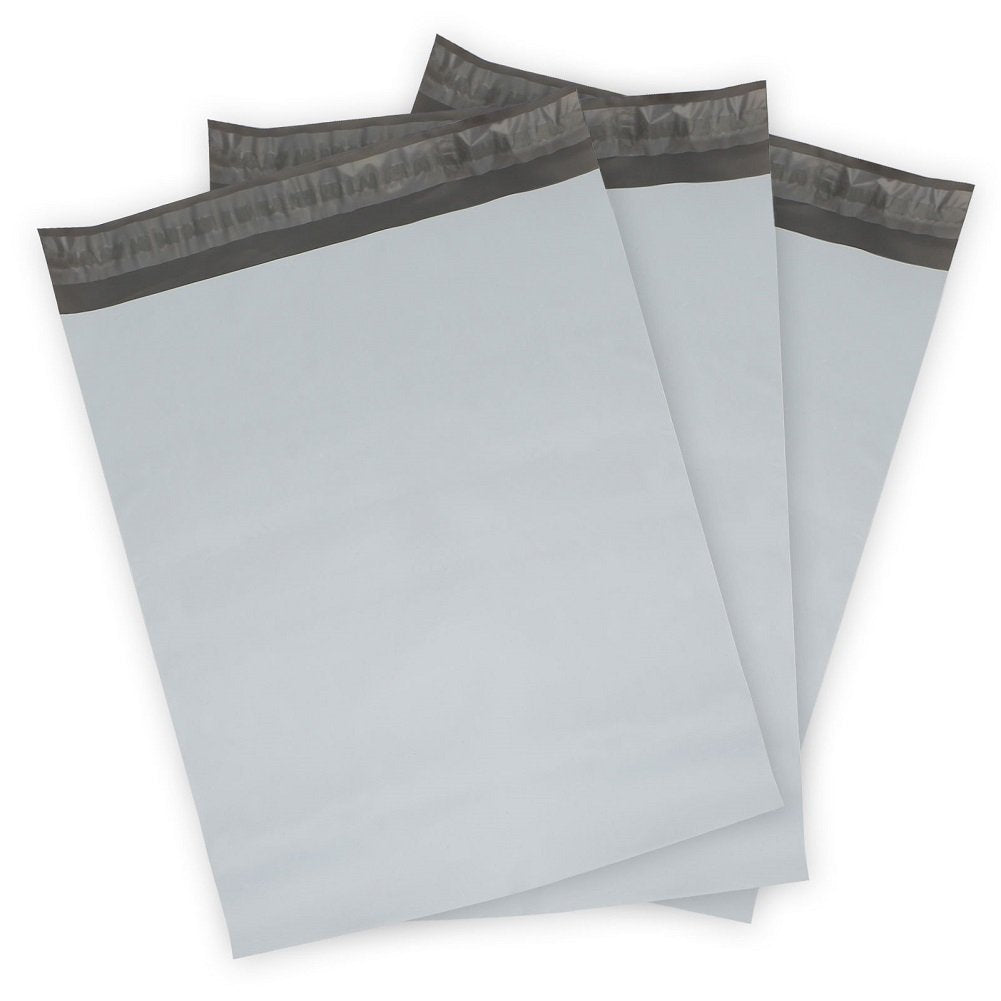Parcel: (36, 39, 973, 961)
